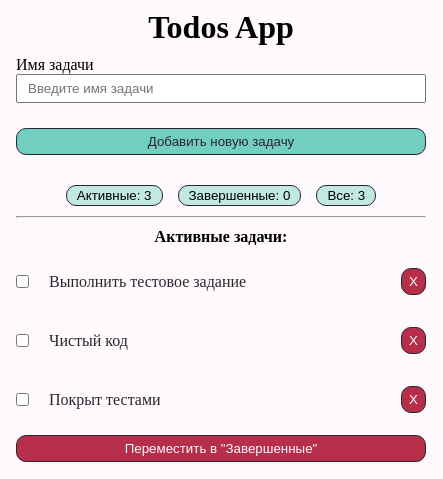
Scenario: TodosContent component › checking active tasks after remove one task
Click the button "Активные: 3" at point(114, 196), box [66,185,162,206]
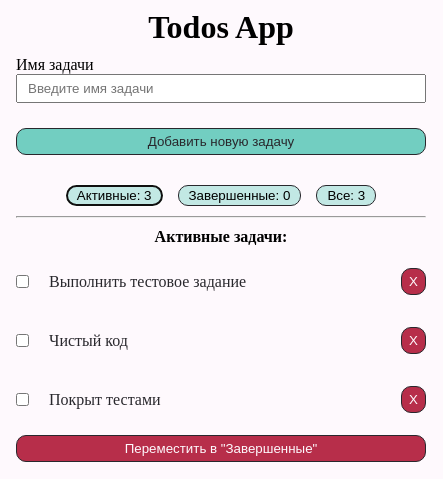
Check: the number of checkboxes is 3, box [16,275,29,288]; [16,334,29,347]; [16,393,29,406]
Click the button "X" next to "Выполнить тестовое задание" at point(414, 282), box [401,268,426,295]
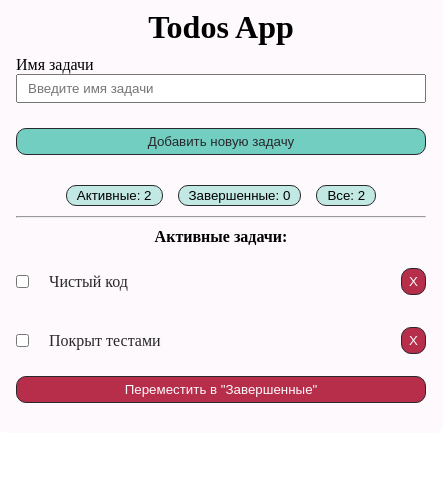
Check: the number of checkboxes is 2, box [16,275,29,288]; [16,334,29,347]
